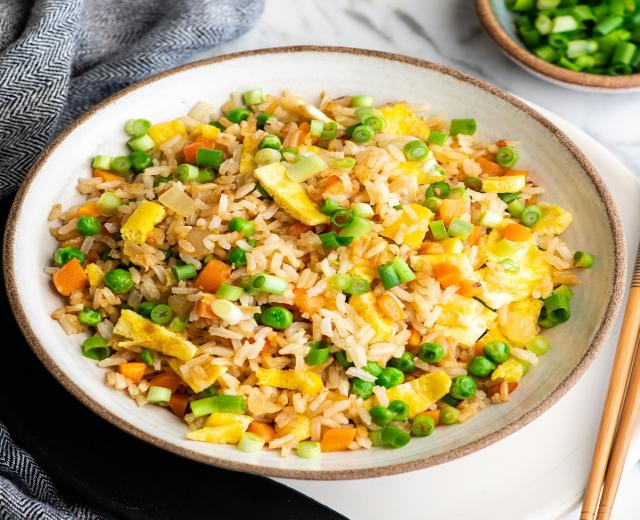dal makhni: (0, 43, 617, 484)
fried rice: (477, 0, 637, 91)
